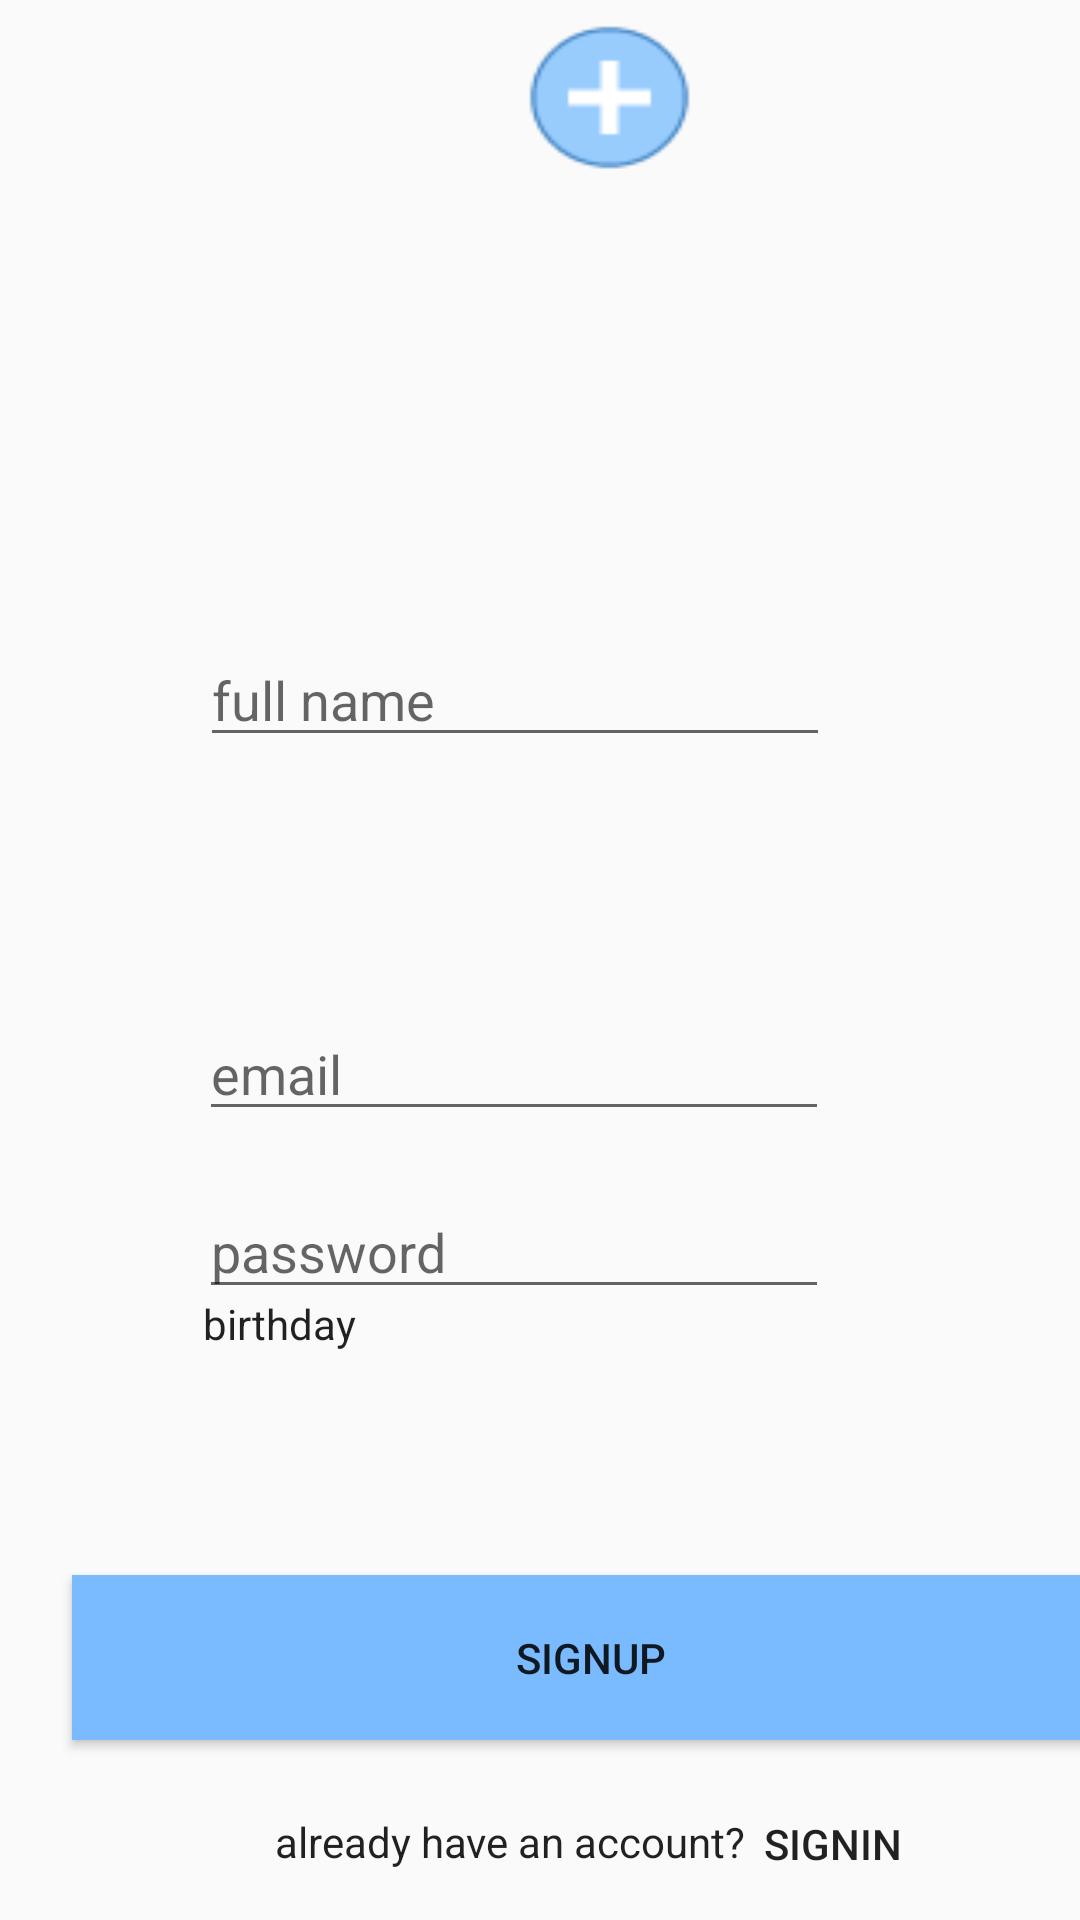

Point at icon controls on the screen. Image size 1080x1920, points as (x=x, y=y).
getphoto: (x=609, y=97)
